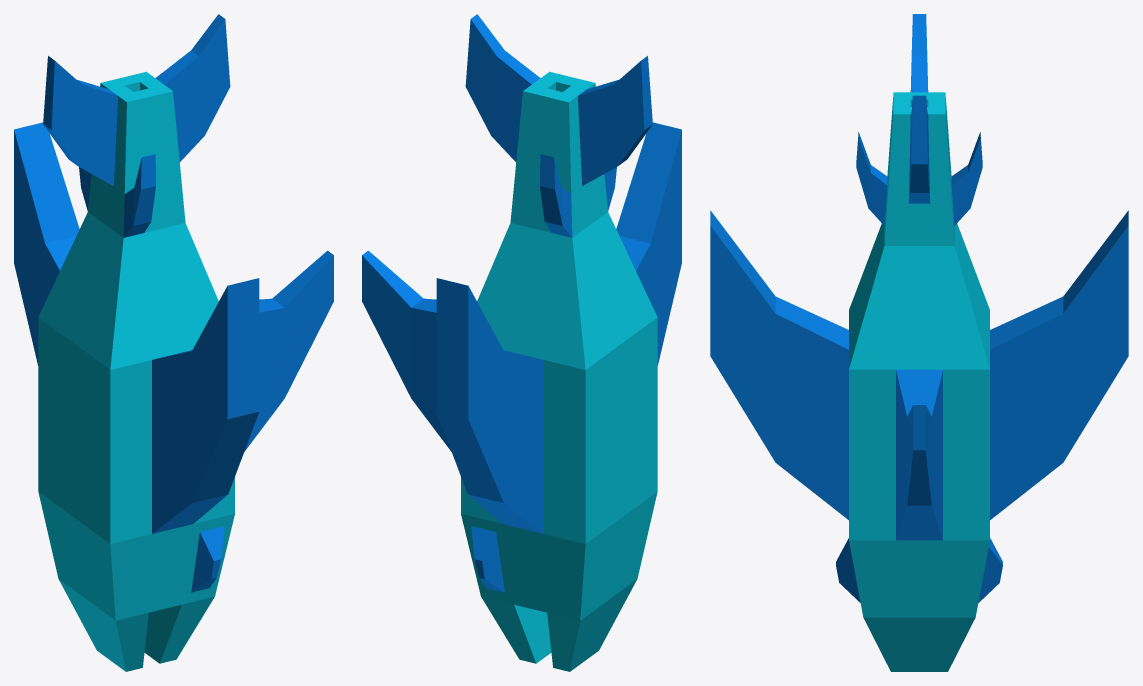
The model's file is SharkRocket.fbx.
The picture shows the model from 3 angles, left to right: view 1: azimuth 30°, elevation 25°; view 2: azimuth 150°, elevation 25°; view 3: azimuth 270°, elevation 25°; orthographic projection. The views are drawn at different scales.
Parts seen in each view (by area): view 1: SharkRocket; view 2: SharkRocket; view 3: SharkRocket.
Part boxes in pixels (box(x1,y1,x2,y2)): SharkRocket: box(14, 14, 333, 671); SharkRocket: box(362, 14, 681, 671); SharkRocket: box(710, 14, 1128, 671).
Bounding box in the file's own units: 265 × 552 × 346.
